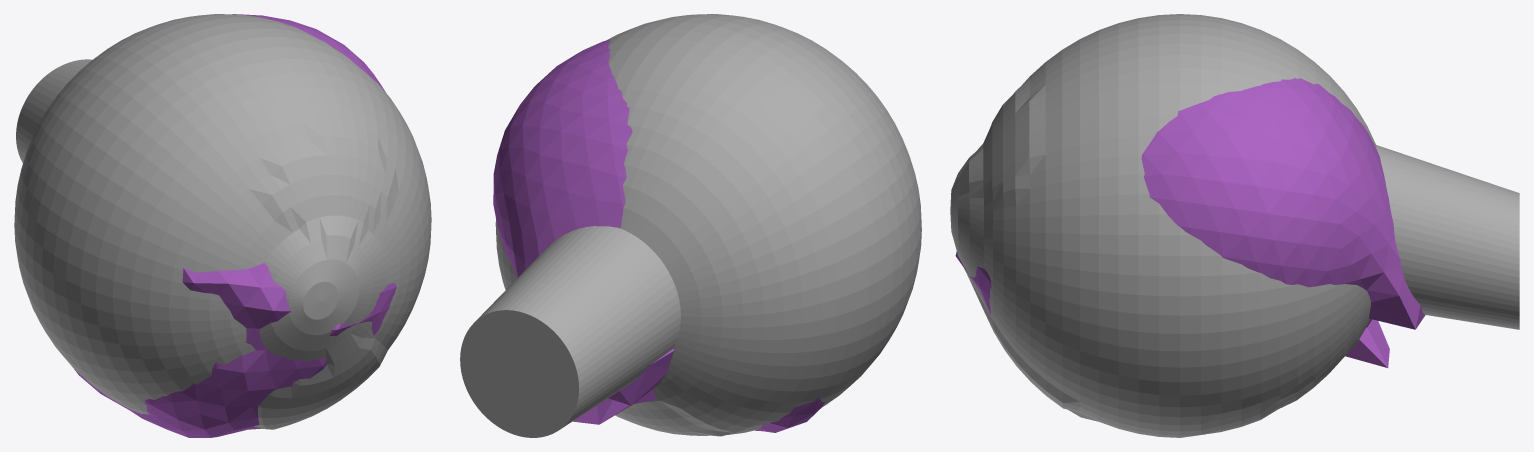
File: G01_A0_ALIGNED_GT.glb
3 renders of one model, left to right at view 1: azimuth 30°, elevation 25°; view 2: azimuth 150°, elevation 25°; view 3: azimuth 270°, elevation 25°, orthographic. The views are drawn at different scales.
Visible parts, largest first — view 1: Independent_GT, A0; view 2: Independent_GT, A0; view 3: Independent_GT, A0.
Part boxes in pixels (left/top/right/bottom): Independent_GT: left=14, top=14, right=431, bottom=429; A0: left=74, top=14, right=396, bottom=437; Independent_GT: left=460, top=14, right=921, bottom=437; A0: left=493, top=39, right=824, bottom=432; Independent_GT: left=950, top=14, right=1519, bottom=437; A0: left=955, top=78, right=1425, bottom=367.
Bounding box in the file's own units: 0.012 × 0.012 × 0.0161.
